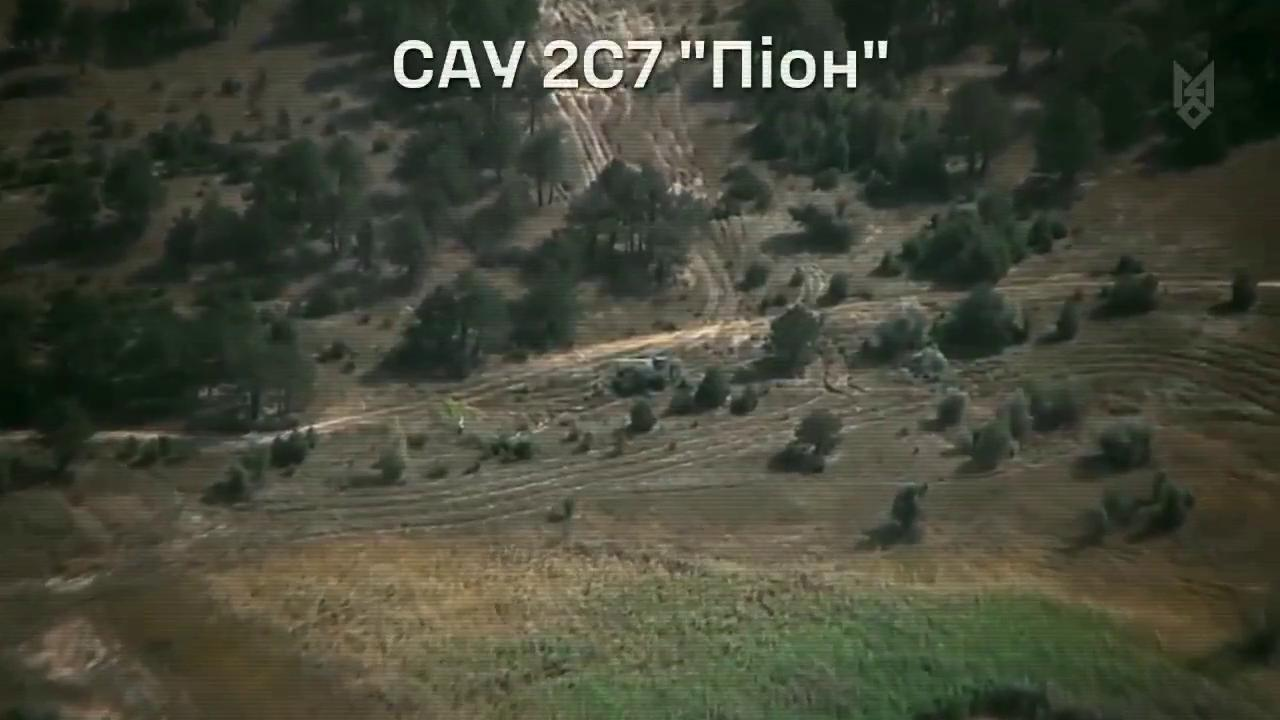tank: (604, 350, 683, 393)
